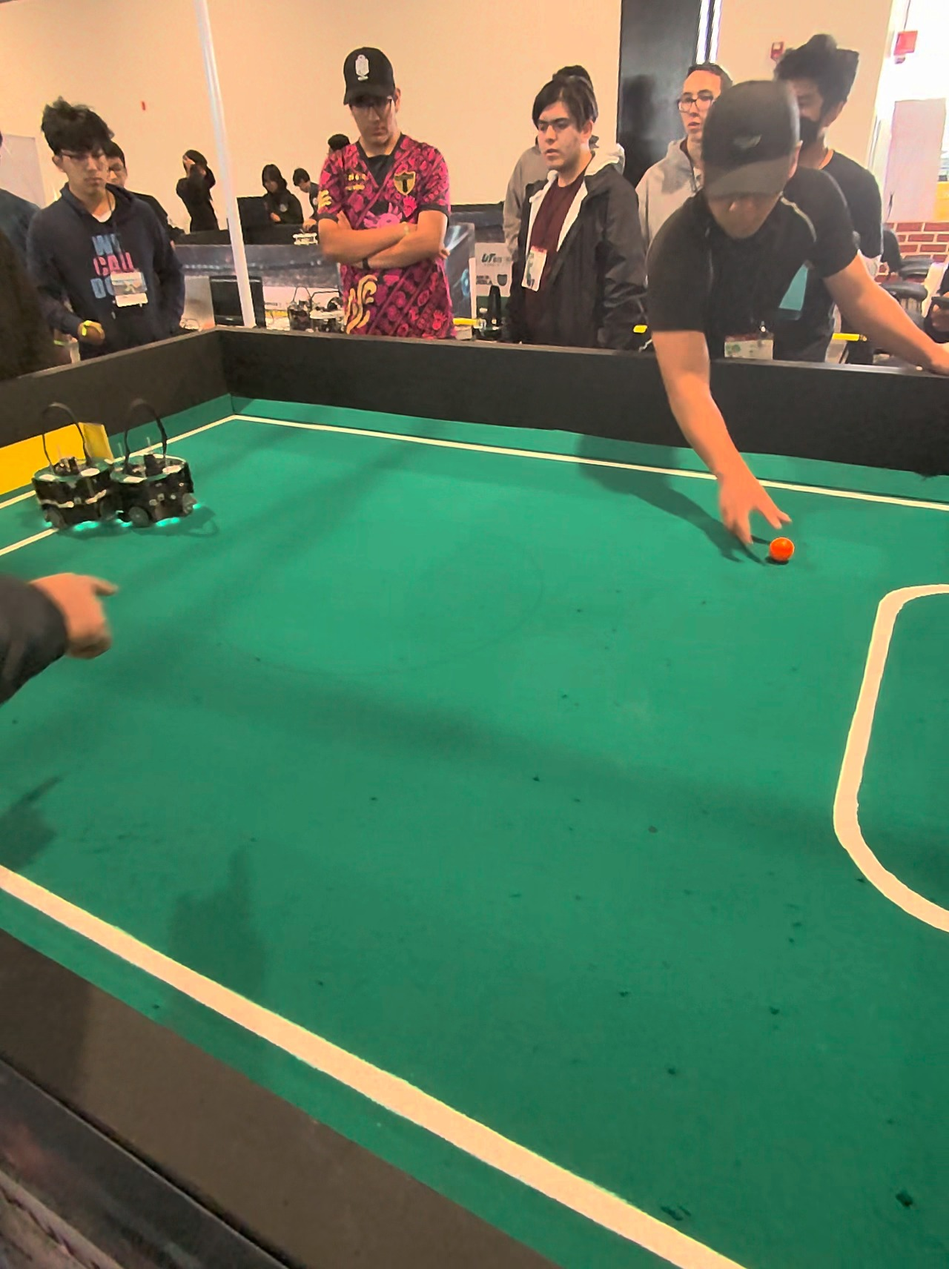Robot: (113, 406, 204, 537), (27, 408, 108, 530)
